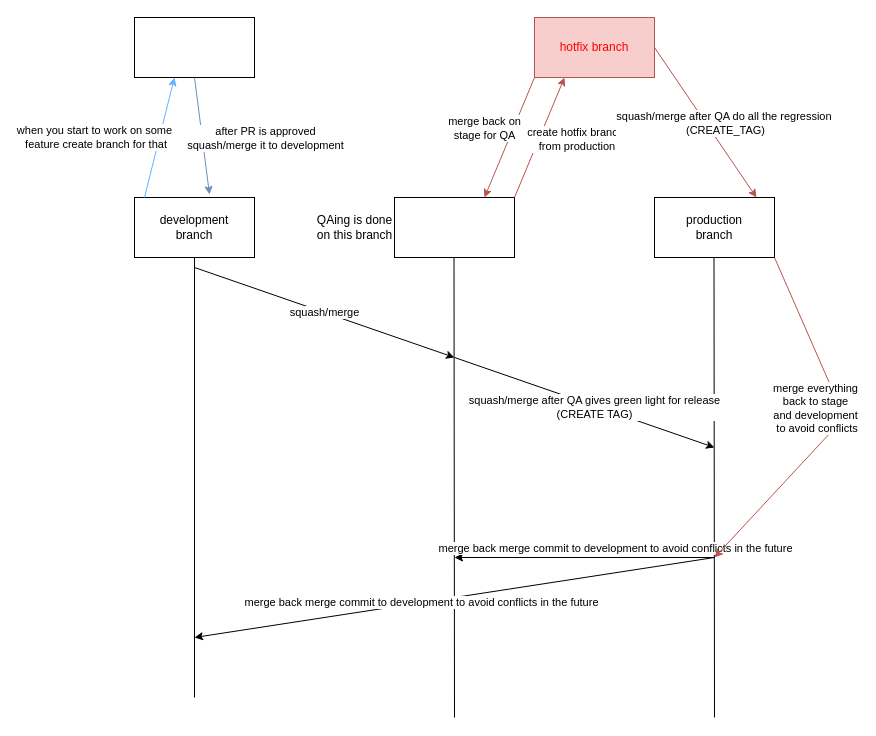
This 876x736 diagram has some shape labels left out. The box of each missing label's shape, as (x1, y1, x2, y2) in pixels:
feature branch: (134, 16, 254, 78)
stage branch: (394, 196, 514, 258)
